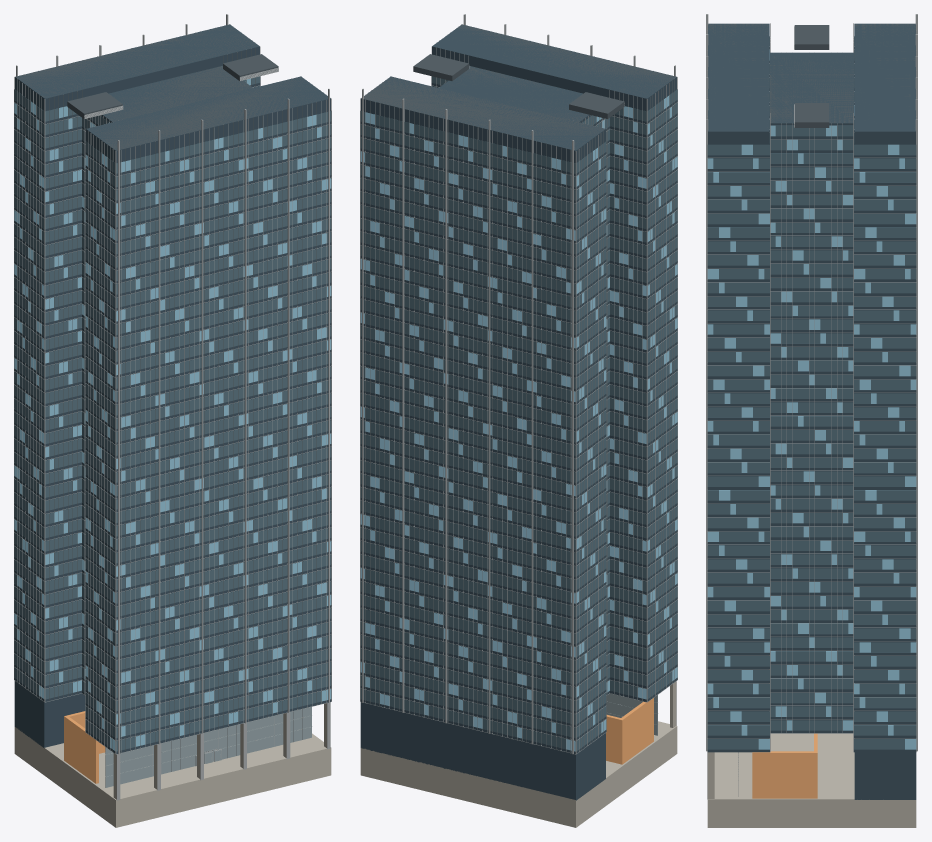
File: wacker_155.glb
3 views of the same model, side by side, from view 1: azimuth 30°, elevation 25°; view 2: azimuth 150°, elevation 25°; view 3: azimuth 270°, elevation 25° (orthographic). The views are drawn at different scales.
Parts seen in each view (by area): view 1: Blue grey curtain glass, Dark curtain spandrels, Silver projecting fins and cable fittings, Night occupied curtain glass, Mechanical louvers and roof, Pale arcade piers and paving, Clear cable supported lobby glazing, Night warm lobby wall panels; view 2: Blue grey curtain glass, Dark curtain spandrels, Silver projecting fins and cable fittings, Night occupied curtain glass, Mechanical louvers and roof, Pale arcade piers and paving, Night warm lobby wall panels, Clear cable supported lobby glazing; view 3: Blue grey curtain glass, Dark curtain spandrels, Silver projecting fins and cable fittings, Night occupied curtain glass, Pale arcade piers and paving, Mechanical louvers and roof, Night warm lobby wall panels.
Boxes of the visible parts, left/top/right/bottom form: Blue grey curtain glass: left=14, top=76, right=331, bottom=751; Dark curtain spandrels: left=14, top=24, right=331, bottom=753; Silver projecting fins and cable fittings: left=14, top=14, right=331, bottom=800; Night occupied curtain glass: left=14, top=78, right=331, bottom=750; Mechanical louvers and roof: left=15, top=25, right=324, bottom=150; Pale arcade piers and paving: left=14, top=703, right=331, bottom=827; Clear cable supported lobby glazing: left=105, top=707, right=311, bottom=787; Night warm lobby wall panels: left=64, top=711, right=105, bottom=783; Blue grey curtain glass: left=360, top=76, right=677, bottom=750; Dark curtain spandrels: left=360, top=24, right=677, bottom=800; Silver projecting fins and cable fittings: left=360, top=14, right=677, bottom=754; Night occupied curtain glass: left=360, top=95, right=677, bottom=751; Mechanical louvers and roof: left=361, top=24, right=676, bottom=149; Pale arcade piers and paving: left=360, top=681, right=677, bottom=827; Night warm lobby wall panels: left=606, top=698, right=653, bottom=764; Clear cable supported lobby glazing: left=606, top=693, right=657, bottom=735; Blue grey curtain glass: left=707, top=36, right=916, bottom=749; Dark curtain spandrels: left=707, top=23, right=916, bottom=799; Silver projecting fins and cable fittings: left=706, top=14, right=917, bottom=799; Night occupied curtain glass: left=707, top=50, right=916, bottom=749; Pale arcade piers and paving: left=707, top=733, right=916, bottom=827; Mechanical louvers and roof: left=708, top=23, right=915, bottom=127; Night warm lobby wall panels: left=752, top=733, right=817, bottom=798.
Size of the model in its own units: 66.75 by 203 by 55.03.
